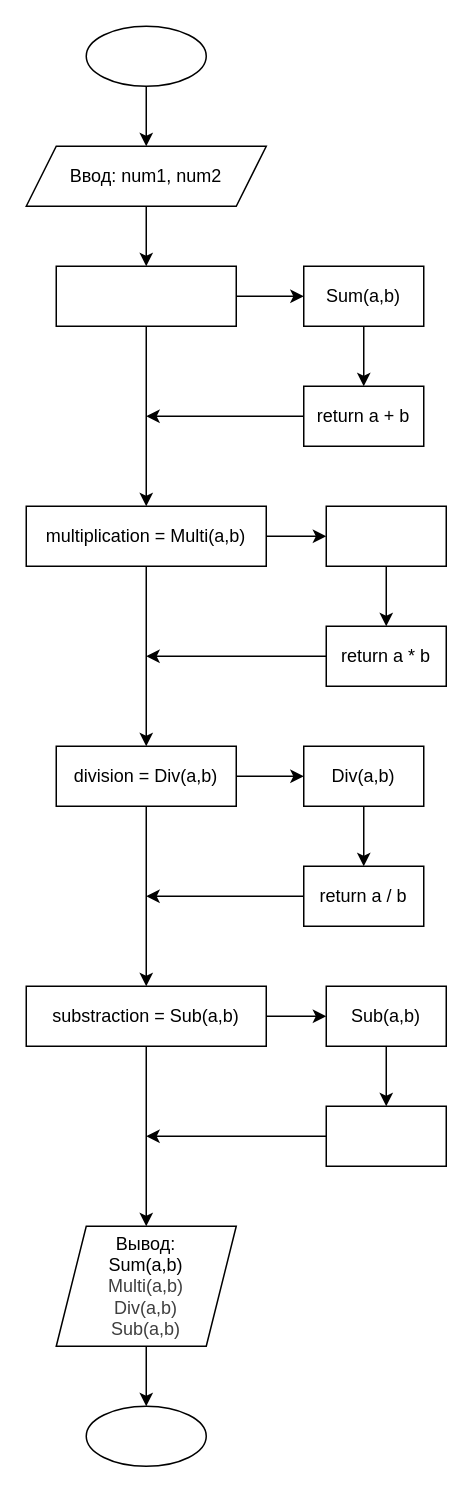
Image size: 473x1493. Some labels were removed from this diagram. The box of each missing label's shape, as (x1, y1, x2, y2) in pixels:
addition = Sum(a,b): (55, 265, 236, 326)
Multi (a,b): (325, 505, 446, 566)
return a - b: (325, 1105, 446, 1166)
Конец: (85, 1405, 206, 1466)
Начало: (85, 25, 206, 86)
